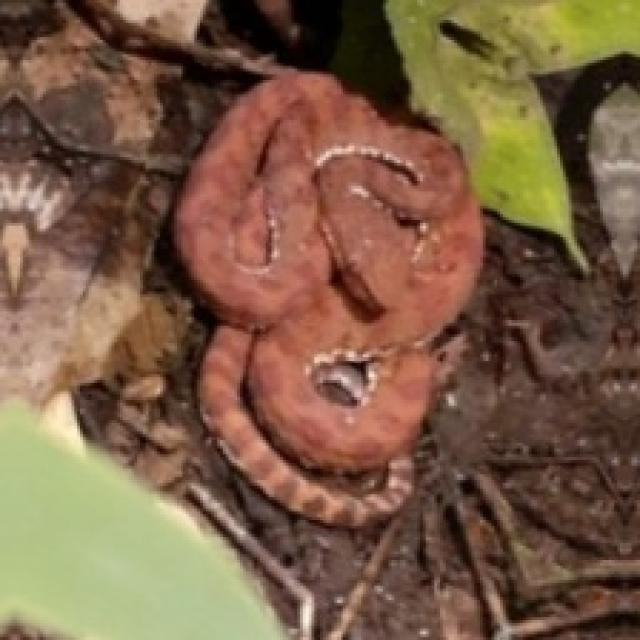philippine pitviper: (174, 69, 480, 523)
